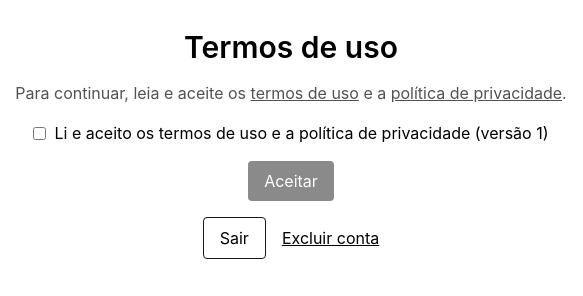
Test: AceiteDosTermos › f) 403 sem corpo mostra a mensagem genérica
Click the checkbox at (40, 133), box [34, 126, 46, 140]
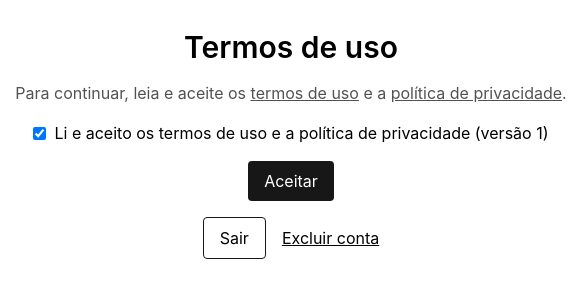
Click the button "Aceitar" at (291, 181), box [248, 161, 334, 201]
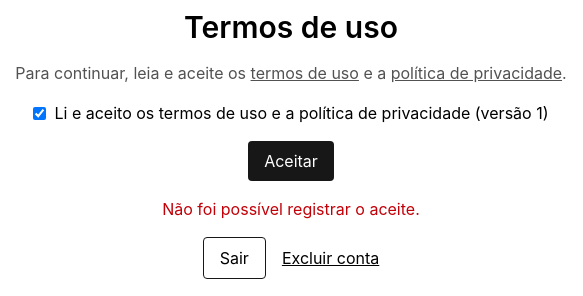
expect the message reads "Não foi possível registrar o aceite.": met, box [162, 199, 420, 219]
